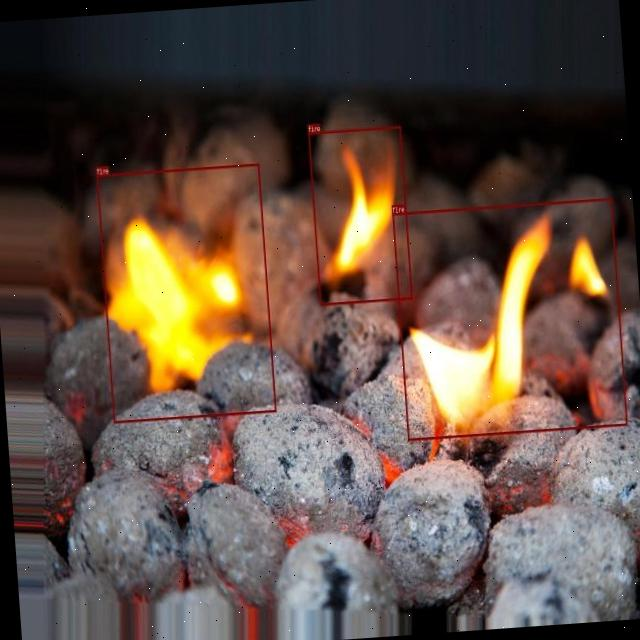fire: (392, 198, 627, 440), (96, 162, 276, 423), (308, 125, 412, 305)
